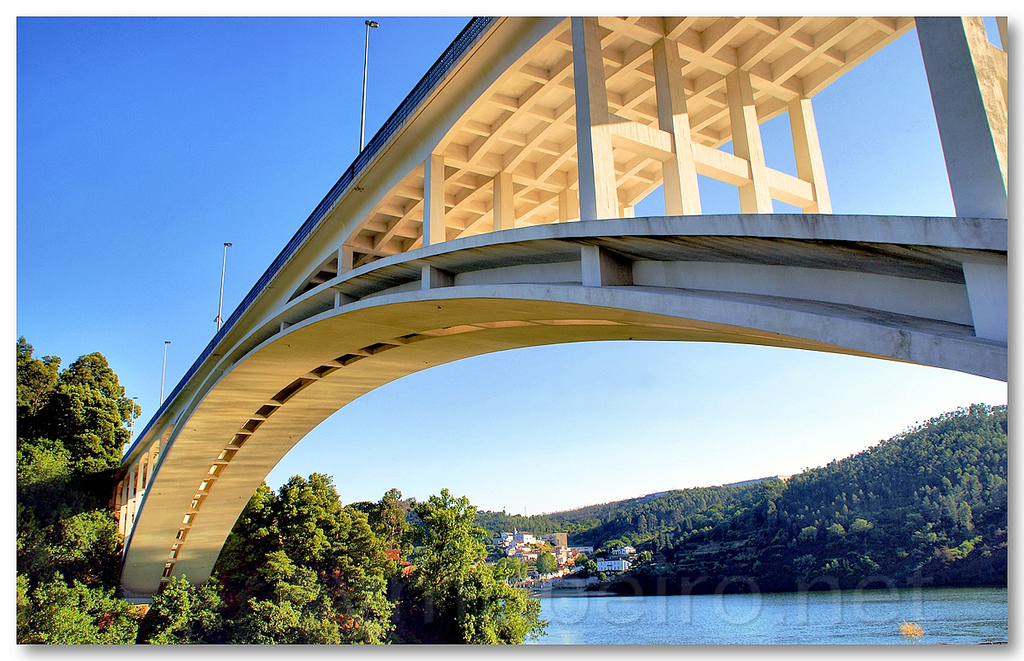arrabida: (125, 17, 1010, 592)
